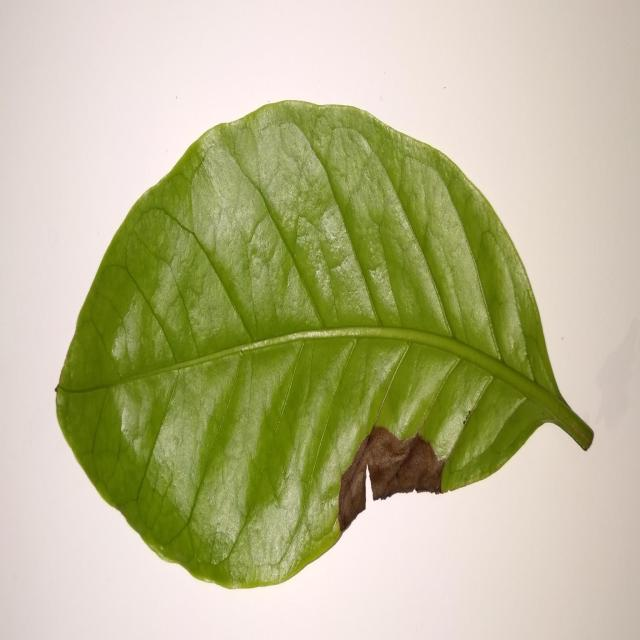Enfermedad-Antracnosis: (53, 101, 595, 594)
